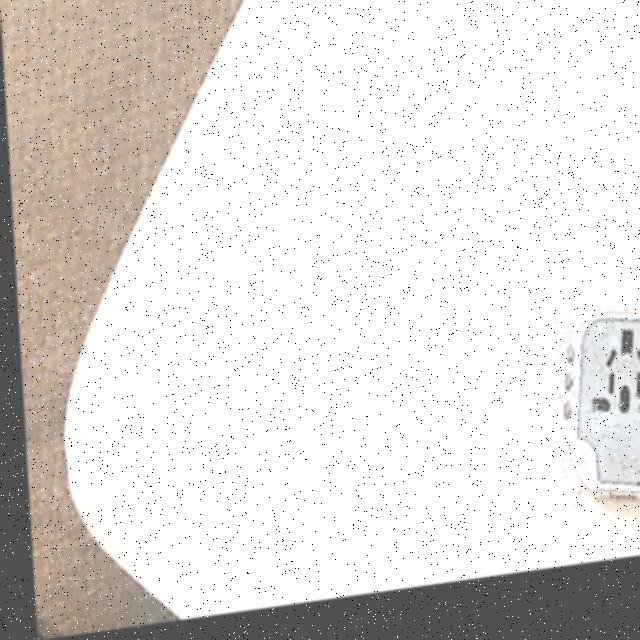adapter: (549, 318, 640, 525)
